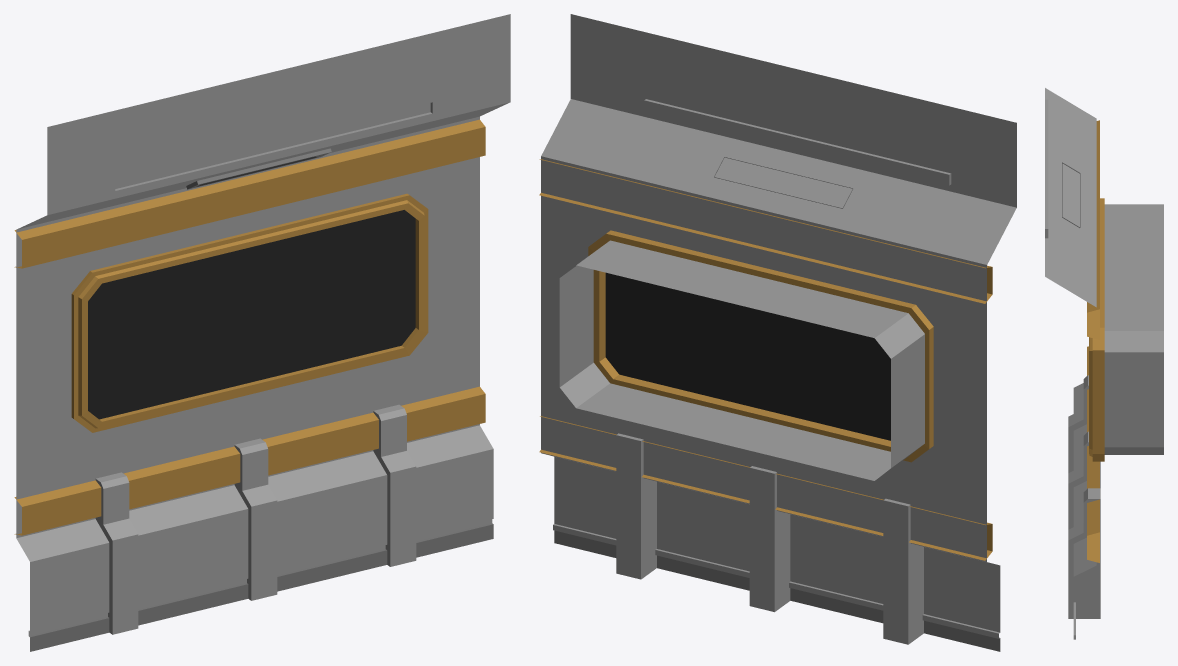
File: Window_Wall_SideA.glb
3 renders of one model, left to right at view 1: azimuth 30°, elevation 25°; view 2: azimuth 150°, elevation 25°; view 3: azimuth 270°, elevation 25°, orthographic. The views are drawn at different scales.
Parts seen in each view (by area): view 1: Window_Wall_SideA; view 2: Window_Wall_SideA; view 3: Window_Wall_SideA.
Part boxes in pixels (x1=…): Window_Wall_SideA: x1=14, y1=14, x2=510, y2=651; Window_Wall_SideA: x1=539, y1=14, x2=1016, y2=651; Window_Wall_SideA: x1=1045, y1=88, x2=1163, y2=639.
Size of the model in its own units: 1.36 by 1.51 by 0.3618.
